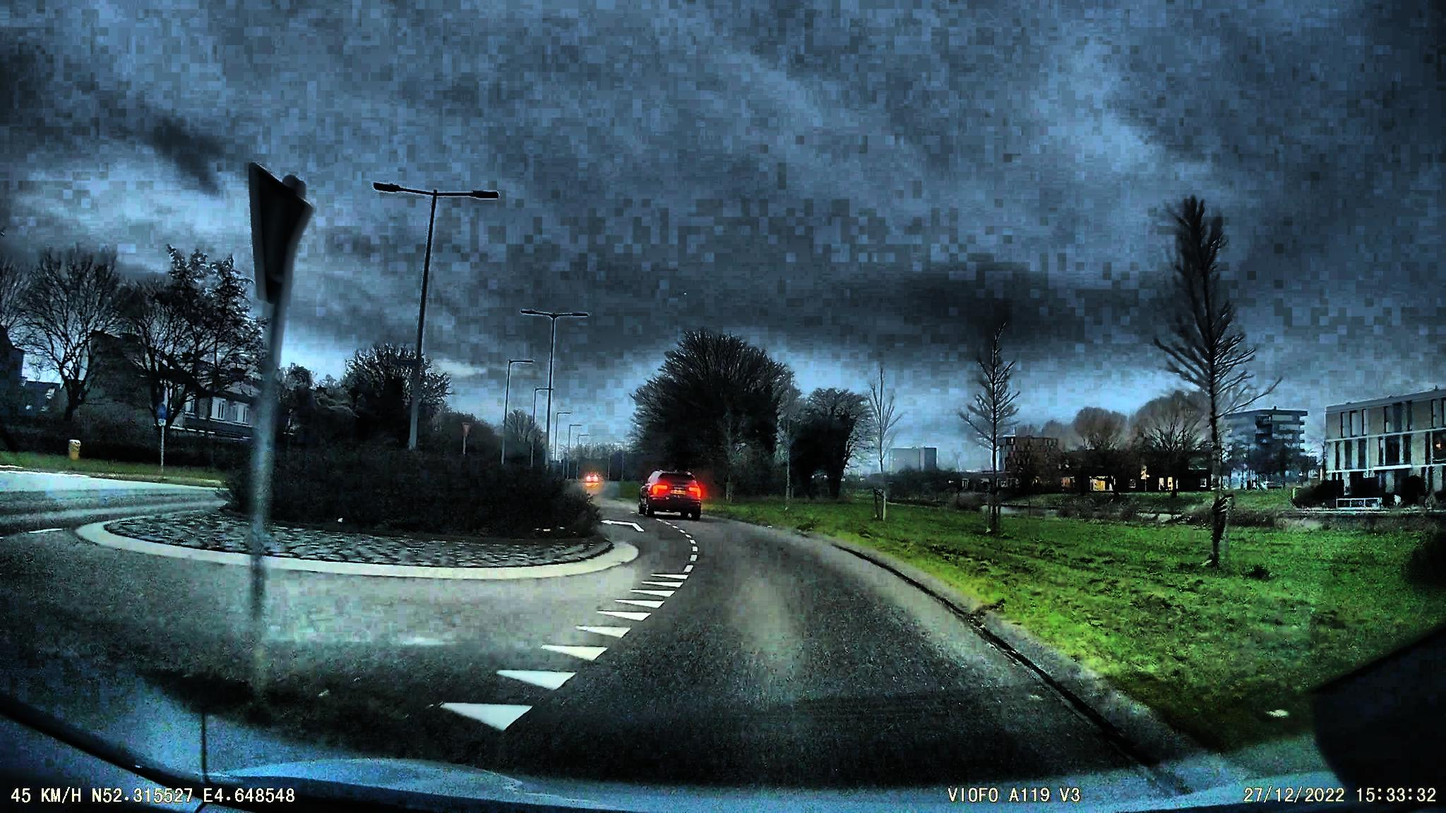Roads: (0, 492, 1438, 813)
